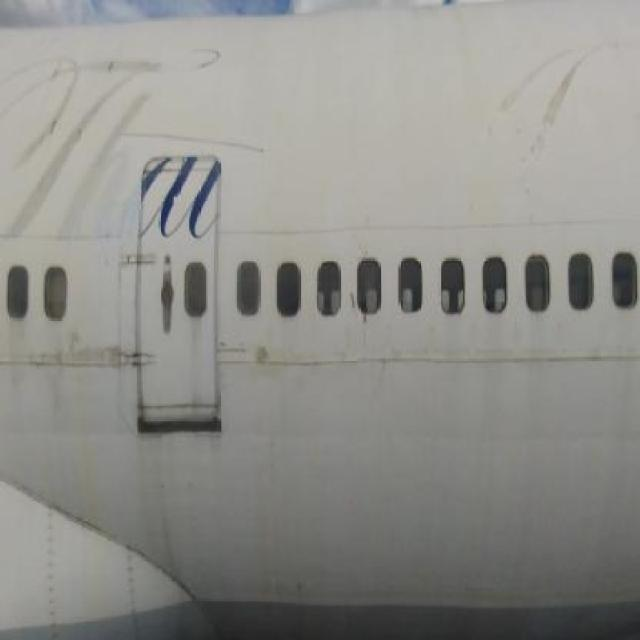Scartch: (1, 49, 148, 237), (478, 36, 620, 175), (41, 339, 157, 386)
